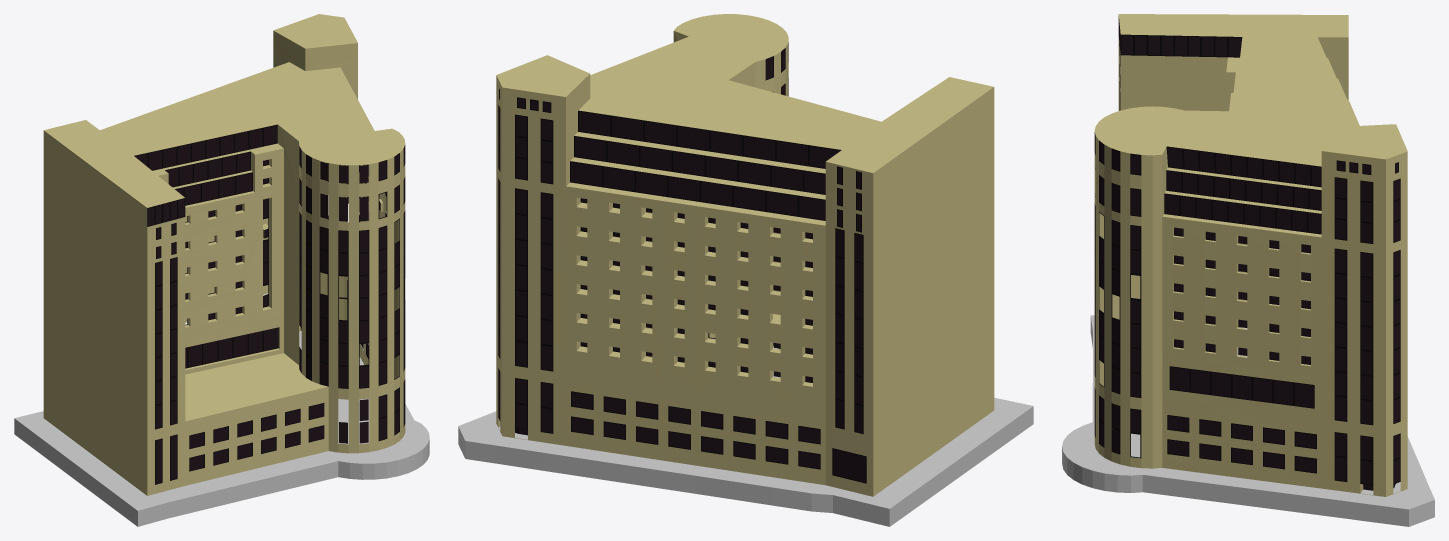
3 renders of one model, left to right at view 1: azimuth 30°, elevation 25°; view 2: azimuth 150°, elevation 25°; view 3: azimuth 270°, elevation 25°, orthographic. The views are drawn at different scales.
Parts seen in each view (by area): view 1: Plane_Fachada base_0, Plane_ventana_0, Plane_acera_0, Plane_Marco_0; view 2: Plane_Fachada base_0, Plane_ventana_0, Plane_acera_0, Plane_Marco_0; view 3: Plane_Fachada base_0, Plane_ventana_0, Plane_acera_0, Plane_Marco_0.
Boxes of the visible parts, x1,y1,x2,y2 form: Plane_Fachada base_0: (43, 14, 405, 495); Plane_ventana_0: (135, 125, 405, 483); Plane_acera_0: (14, 331, 429, 526); Plane_Marco_0: (134, 124, 405, 484); Plane_Fachada base_0: (496, 14, 994, 496); Plane_ventana_0: (498, 42, 865, 482); Plane_acera_0: (458, 346, 1033, 526); Plane_Marco_0: (498, 48, 866, 483); Plane_Fachada base_0: (1094, 14, 1407, 496); Plane_ventana_0: (1094, 16, 1399, 490); Plane_acera_0: (1062, 315, 1434, 526); Plane_Marco_0: (1094, 19, 1400, 490).
Size of the model in its own units: 2125 by 1812 by 1725.
